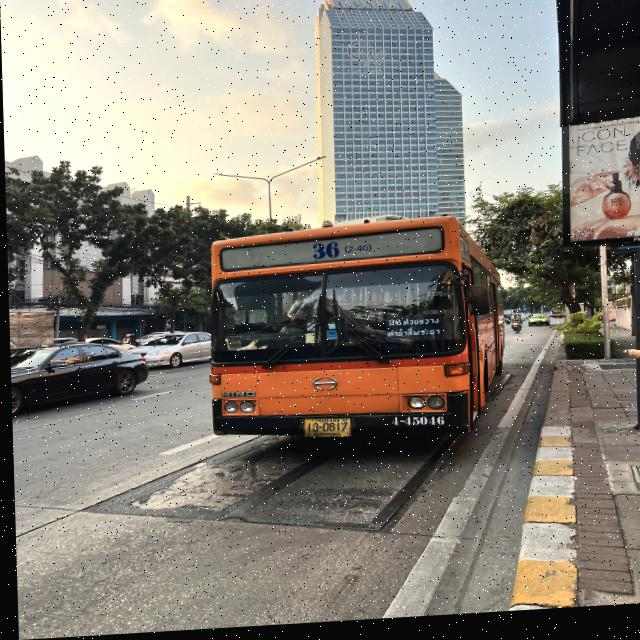BMTA-bus: (202, 219, 504, 451)
Bus-Line-Number: (297, 239, 380, 266)
Destination-Sign-Normal: (381, 319, 443, 348)
